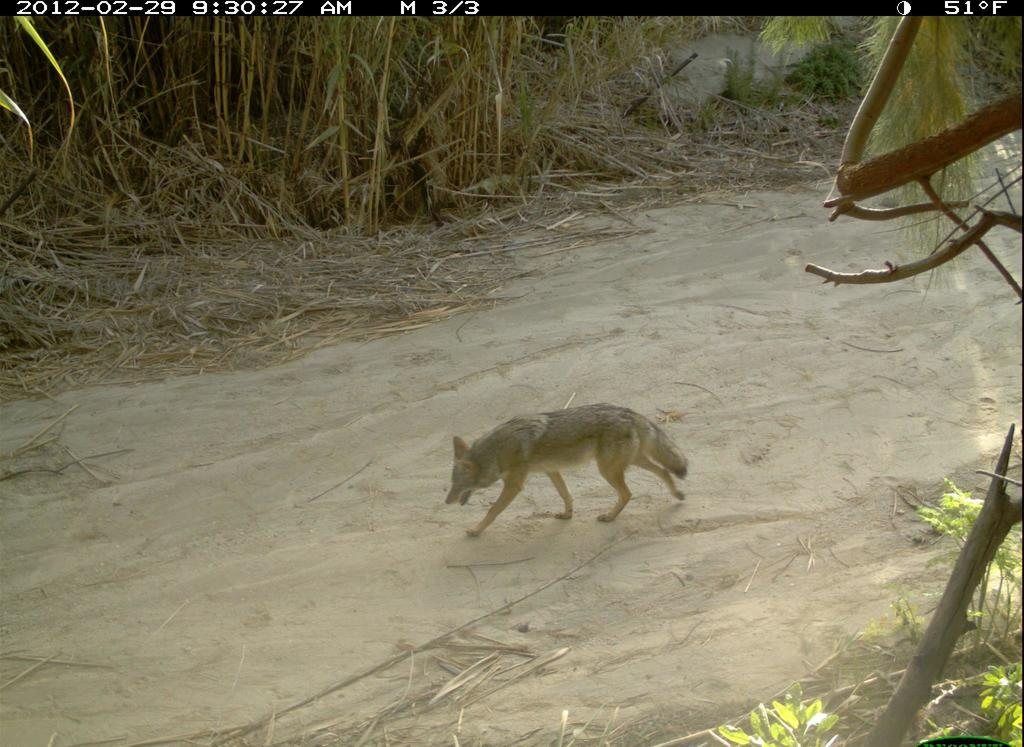coyote: (438, 401, 698, 542)
